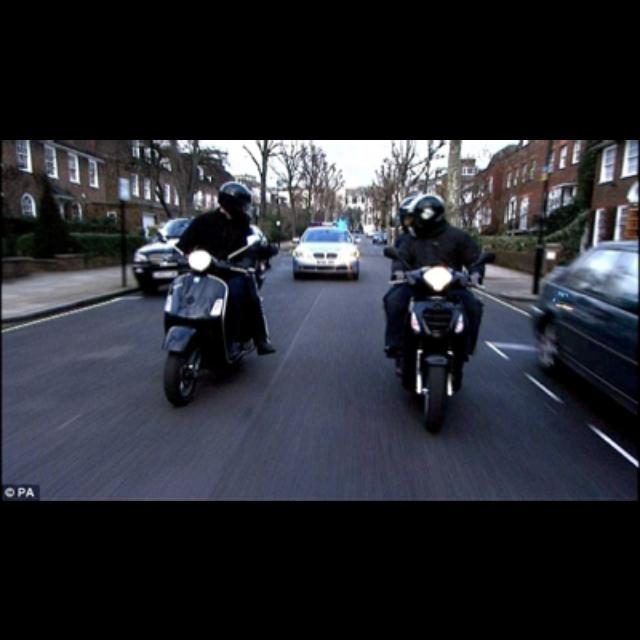With Helmet: (400, 184, 450, 236), (215, 171, 253, 219)
